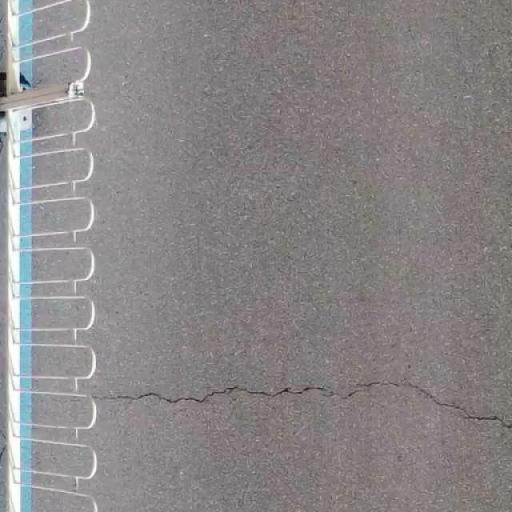severe crack: (20, 373, 503, 437)
